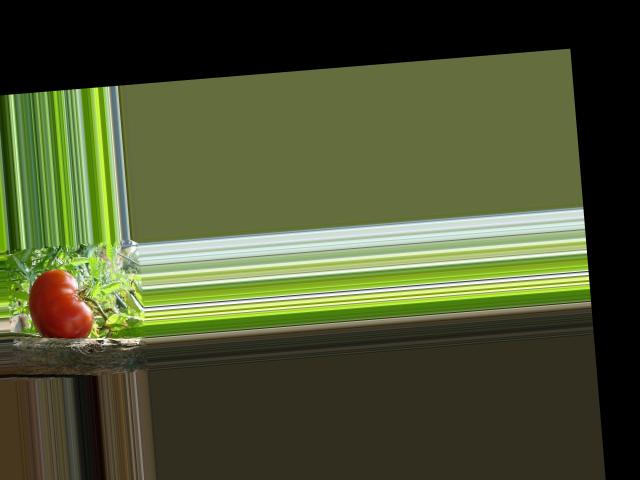tomato: (26, 266, 95, 343)
